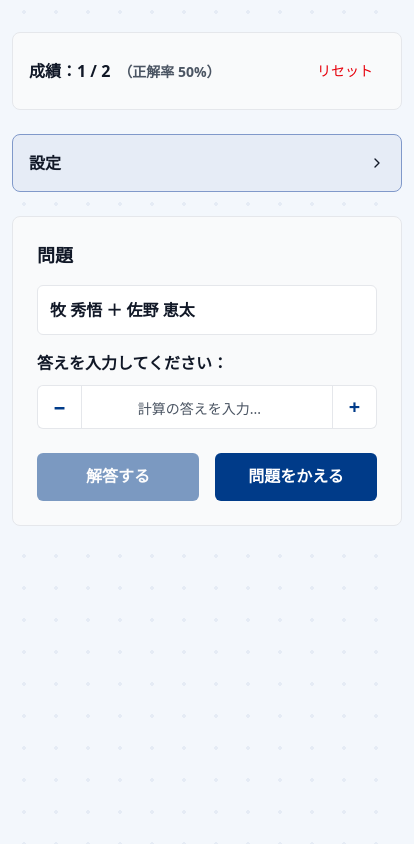
Test: Question Component › when answer the question › should show incorrect result when answer is incorrect
Type "10" into the number field with test id "number-input" at {"x": 207, "y": 407}, box [81, 385, 333, 429]
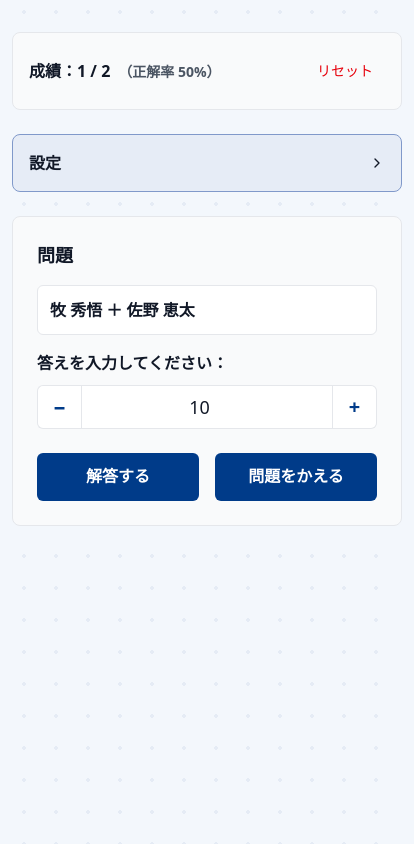
Click the button "解答する" at {"x": 118, "y": 477}, box [37, 453, 199, 501]
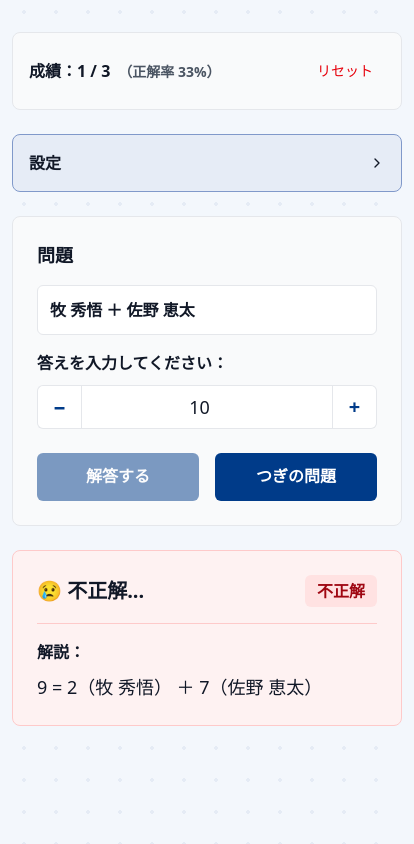
Result: the text "😢 不正解..." is shown at [37, 577, 144, 605]
Result: the text "9 = 2（牧 秀悟） ＋ 7（佐野 恵太）" is shown at [37, 675, 322, 699]
